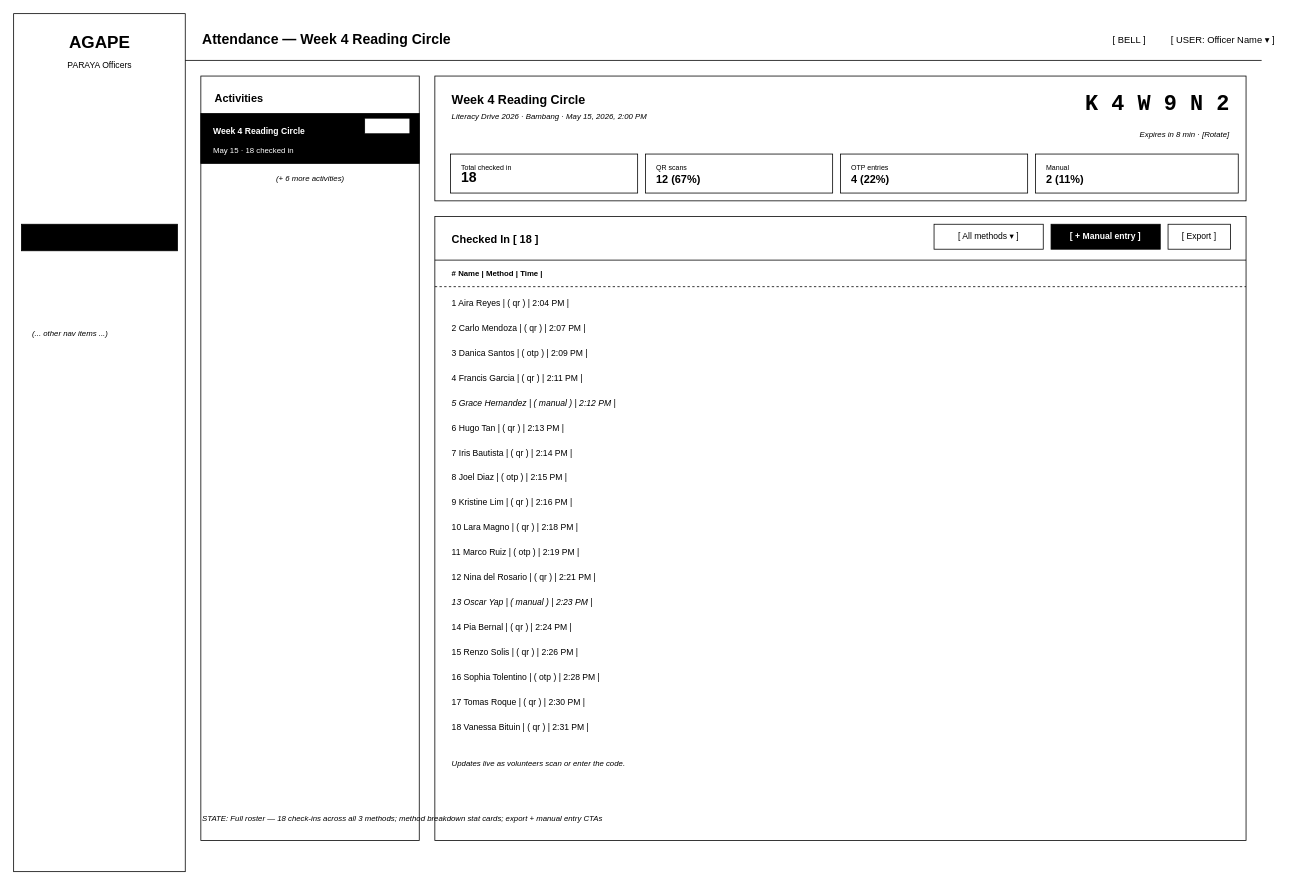
This 1307x885 diagram has some shape labels left out. The shapes that lost their labels are listed below. From the top down, each one's box as (x1, y1, x2, y2) in pixels, then its label:
(364, 117, 410, 134): ( Live )
(21, 223, 177, 251): [x] Attendance
